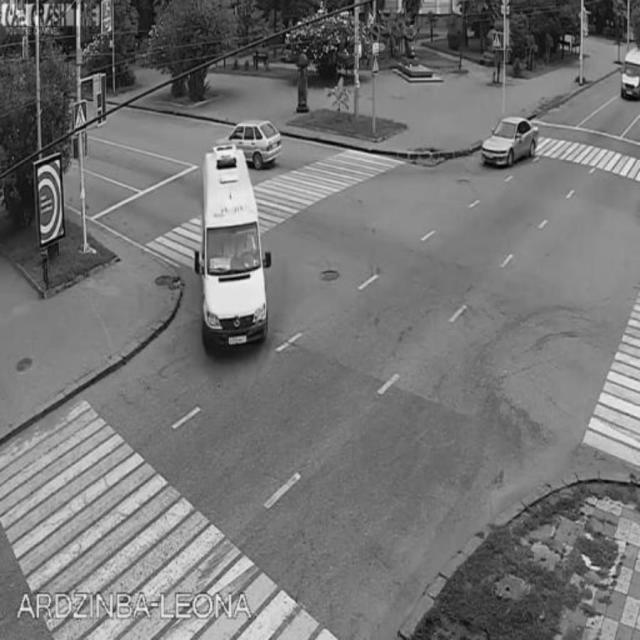vehicle: (198, 150, 256, 358), (486, 110, 538, 174), (223, 122, 278, 172), (618, 45, 640, 107)
